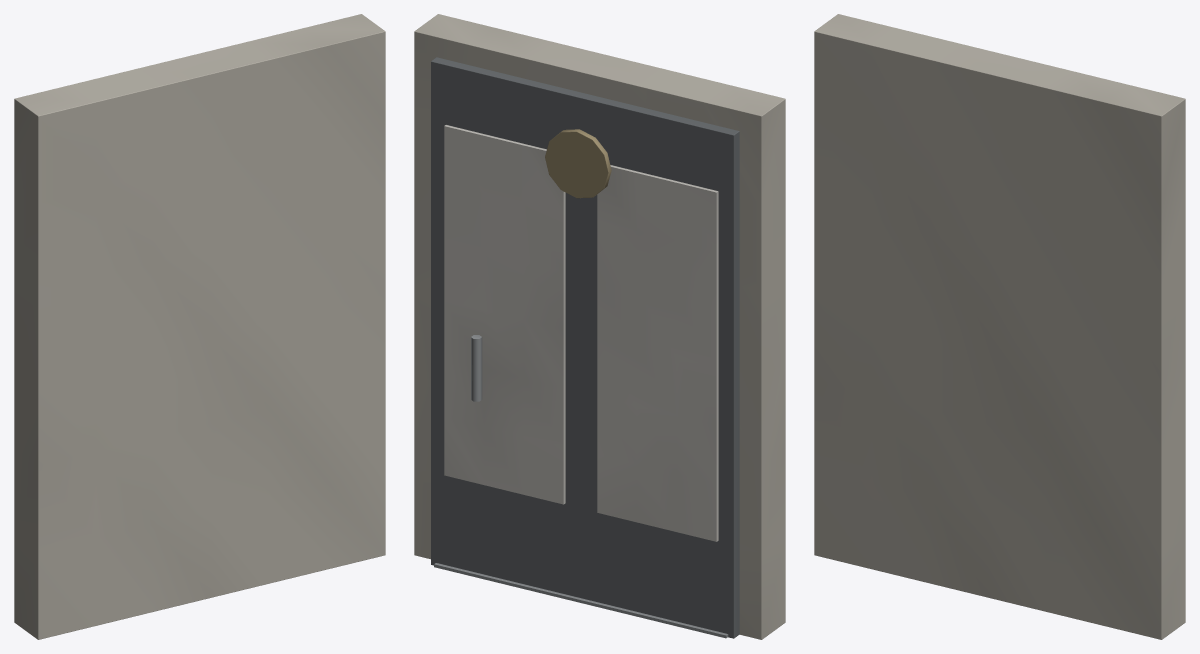
File: mayor_door.glb
The picture shows the model from 3 angles, left to right: view 1: azimuth 30°, elevation 25°; view 2: azimuth 150°, elevation 25°; view 3: azimuth 330°, elevation 25°; orthographic projection.
Size of the model in its own units: 2.5 by 3.6 by 0.475.
